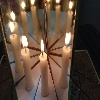fire: (40, 38, 45, 54)
